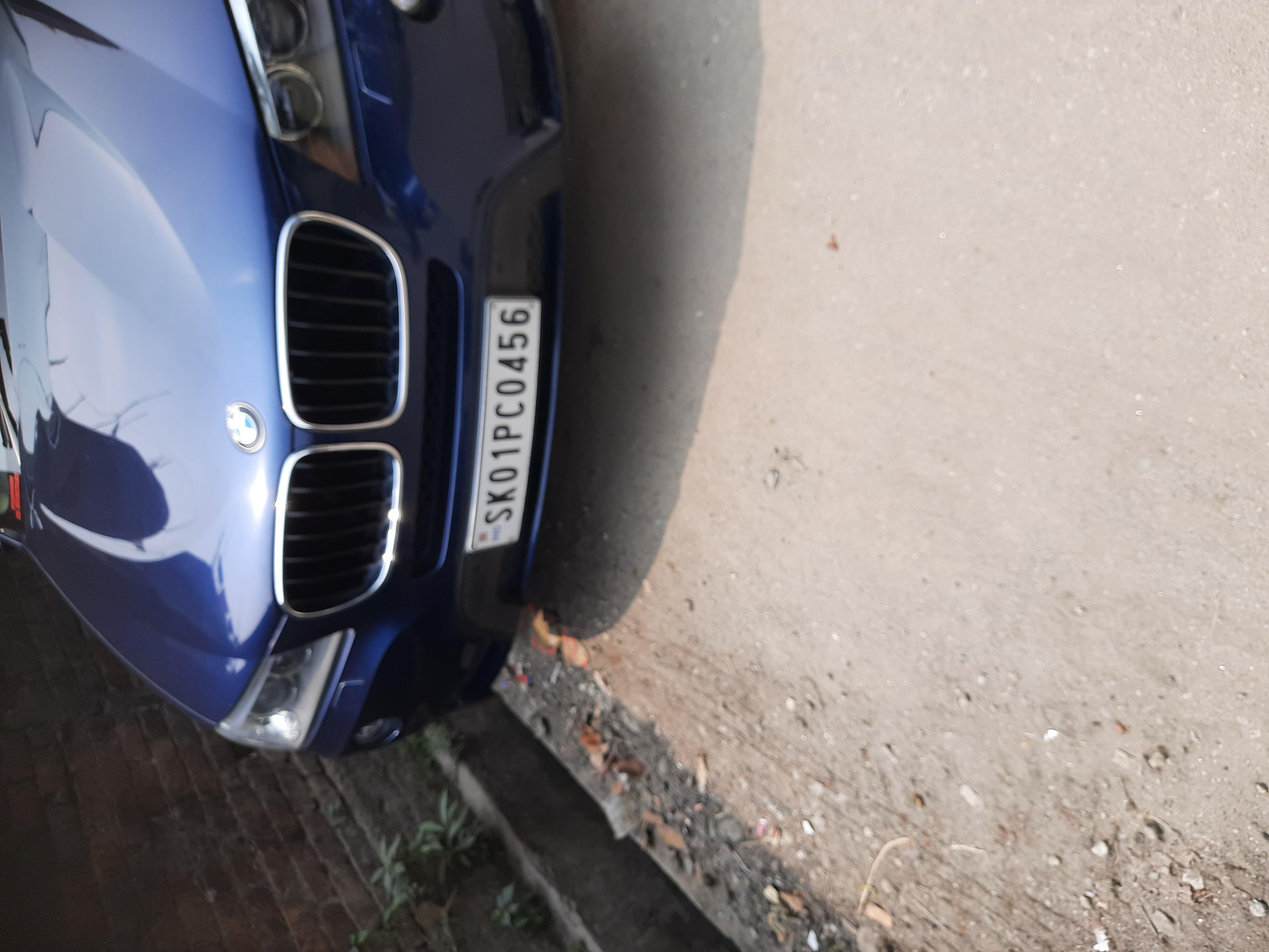number_platerotation: (527, 345, 881, 409)
